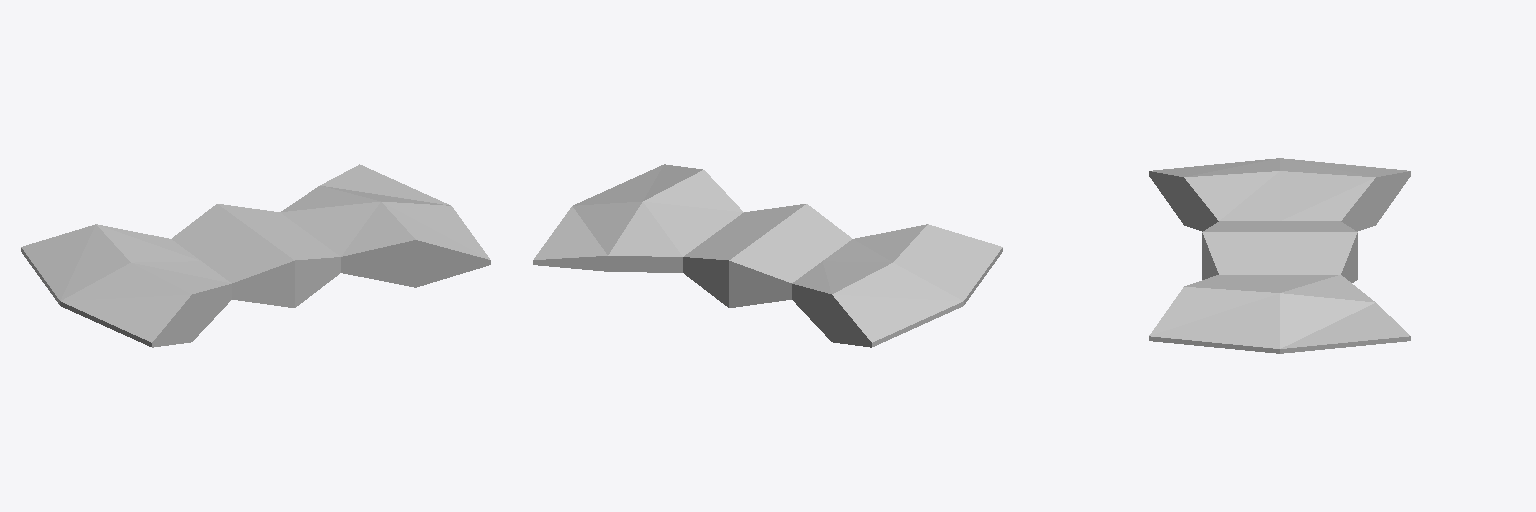
File: Axe Head.obj
3 views of the same model, side by side, from view 1: azimuth 30°, elevation 25°; view 2: azimuth 150°, elevation 25°; view 3: azimuth 270°, elevation 25° (orthographic).
Parts seen in each view (by area): view 1: Axe_Head; view 2: Axe_Head; view 3: Axe_Head.
Boxes of the visible parts, x1,y1,x2,y2 form: Axe_Head: [21, 164, 490, 347]; Axe_Head: [533, 164, 1002, 347]; Axe_Head: [1149, 158, 1410, 353].
Bounding box in the file's own units: 3.71 × 0.4331 × 2.15.